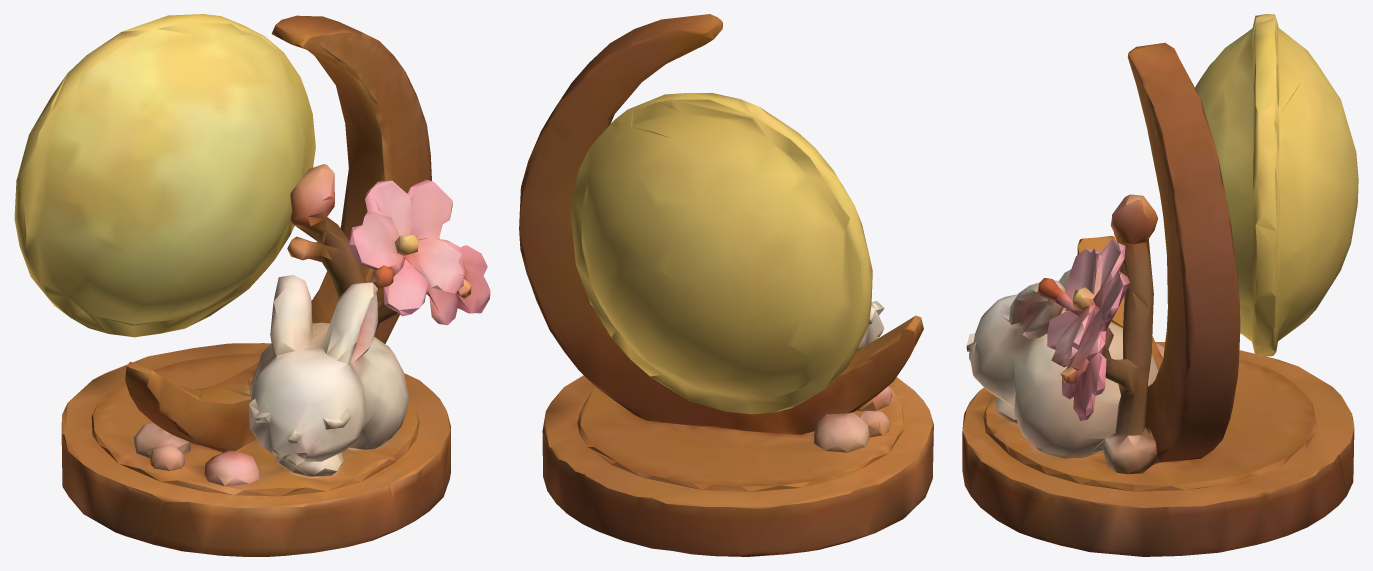
The model's file is deco40.glb.
The picture shows the model from 3 angles, left to right: view 1: azimuth 30°, elevation 25°; view 2: azimuth 150°, elevation 25°; view 3: azimuth 270°, elevation 25°; orthographic projection.
Size of the model in its own units: 0.2112 by 0.2306 by 0.1864.
1 material, 1 textured.
